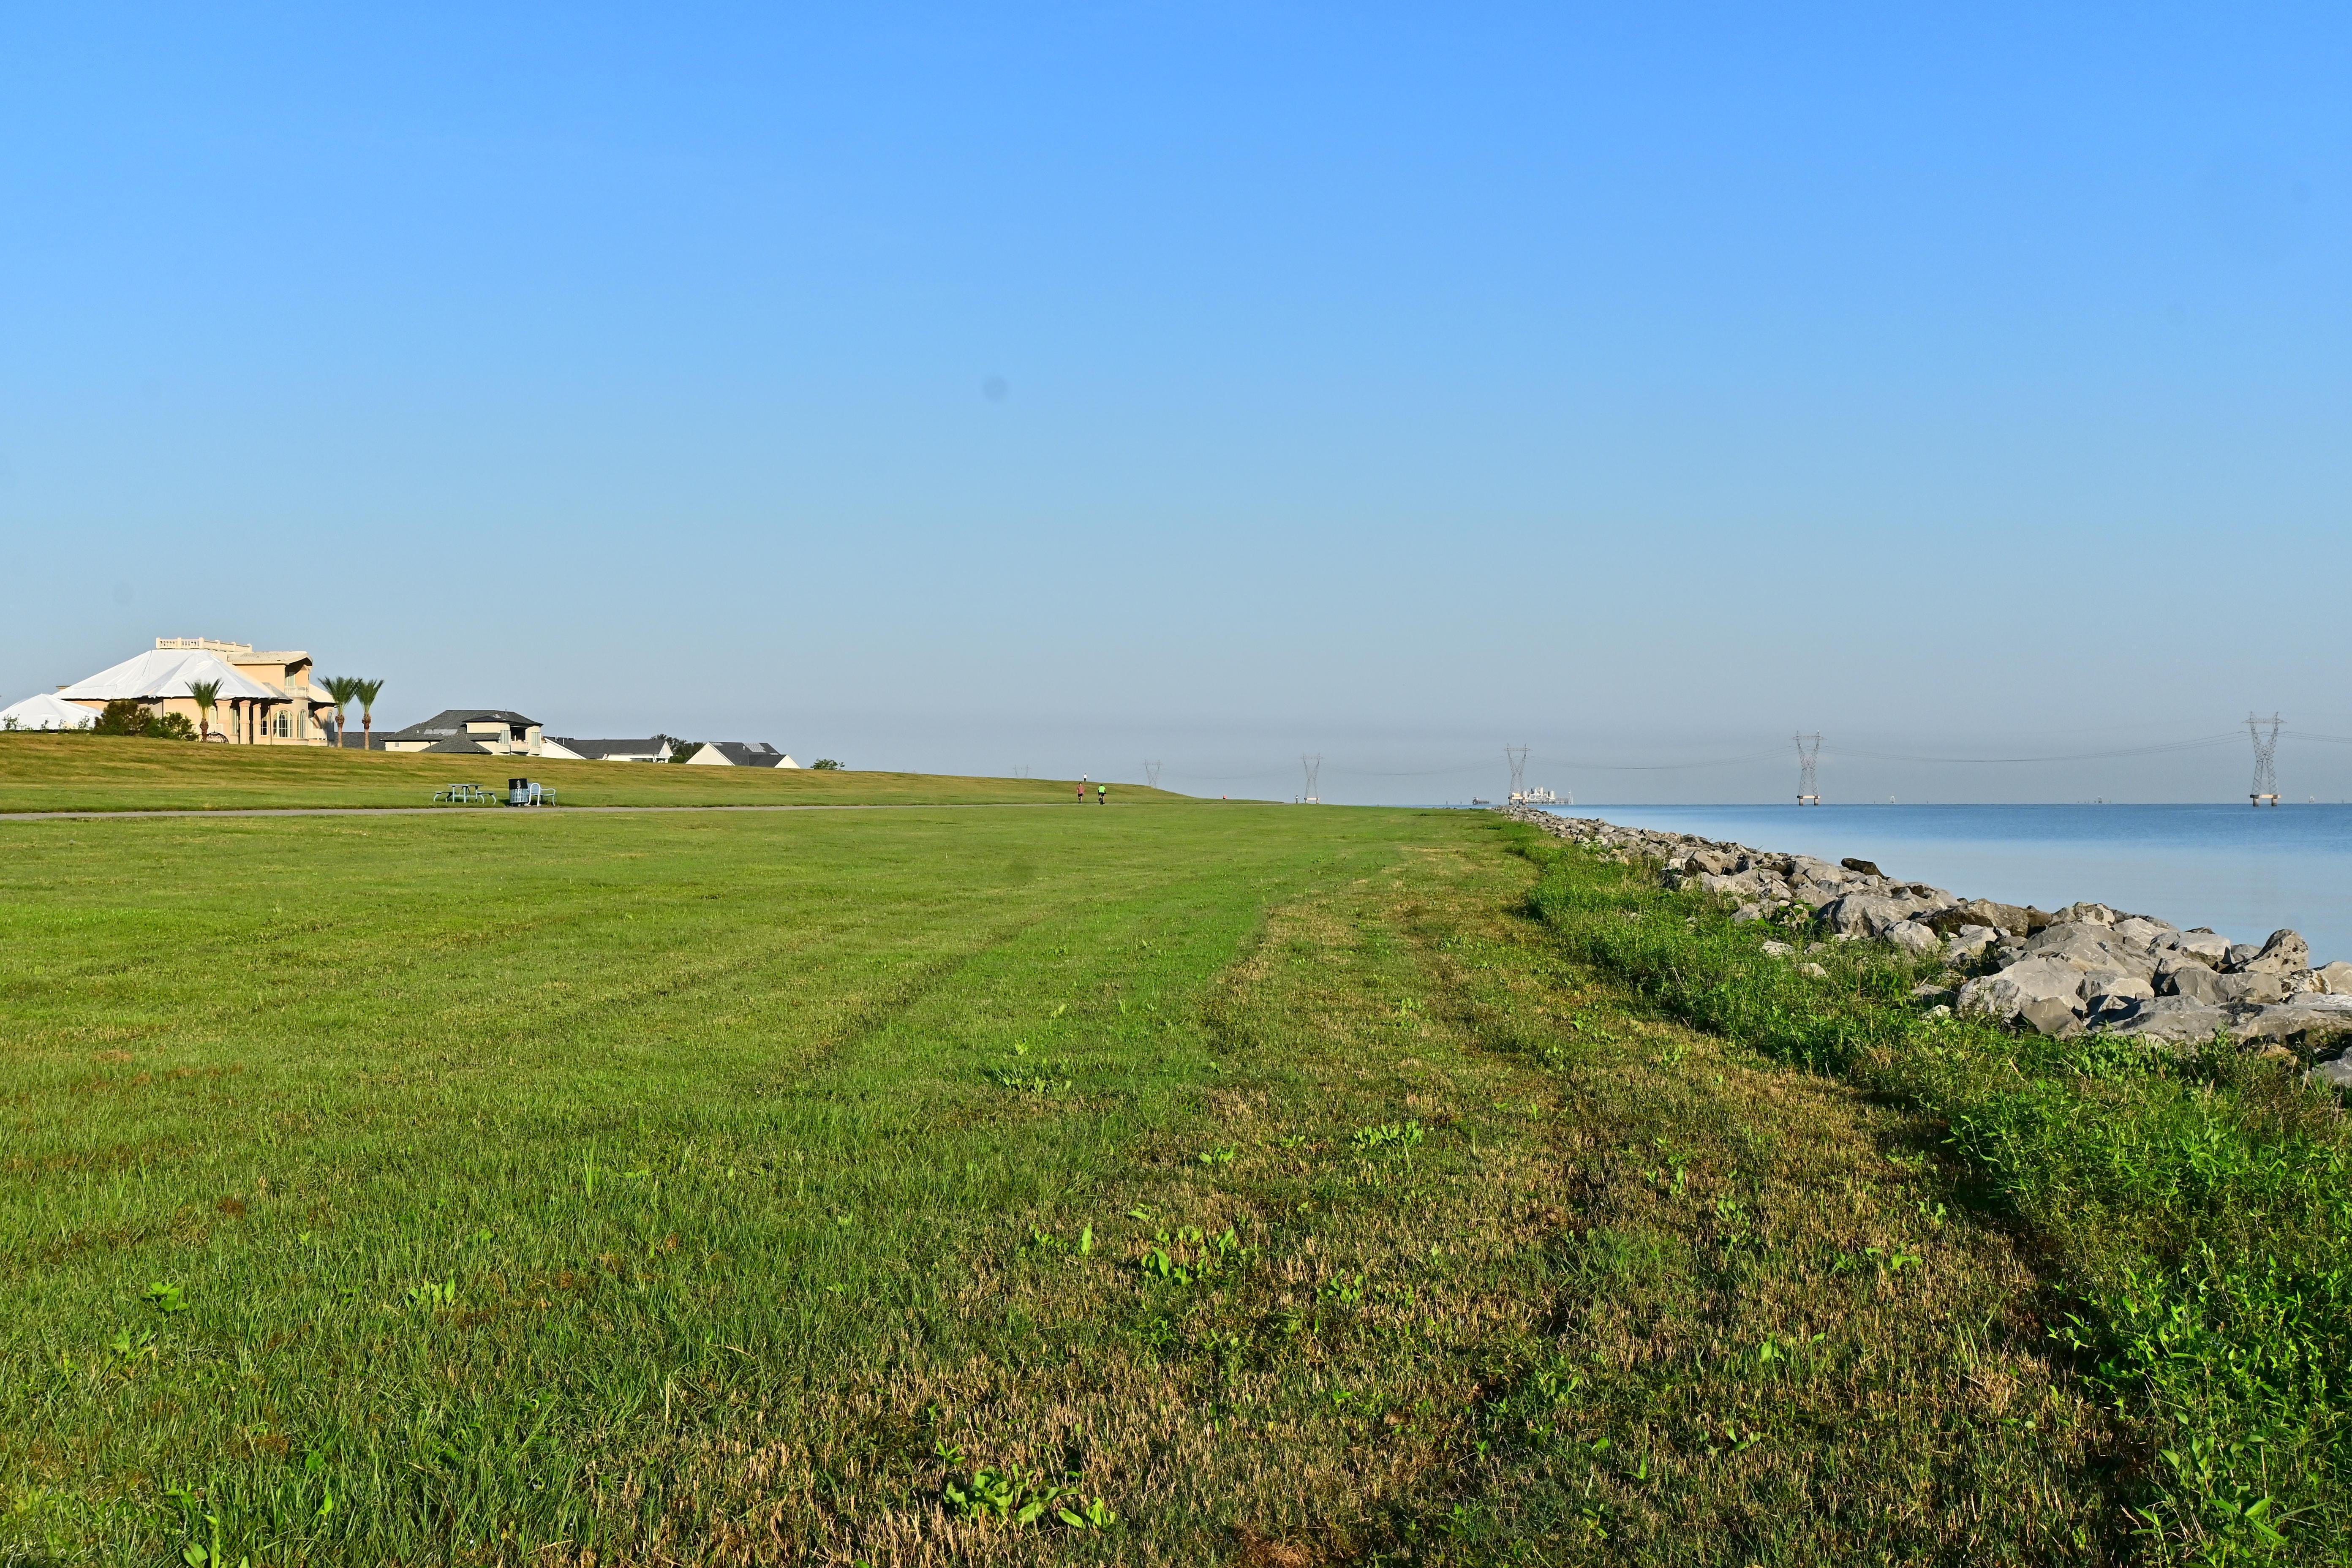affected: (0, 613, 385, 768)
